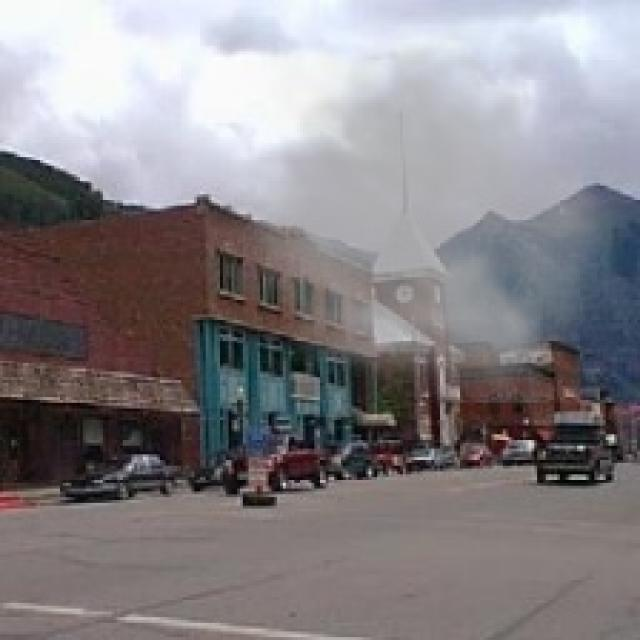Smoke: (214, 0, 637, 403)
